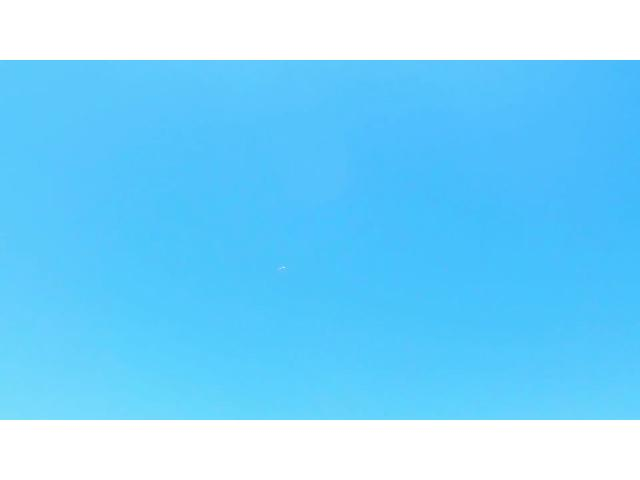Anti-Drone: (272, 260, 290, 276)
